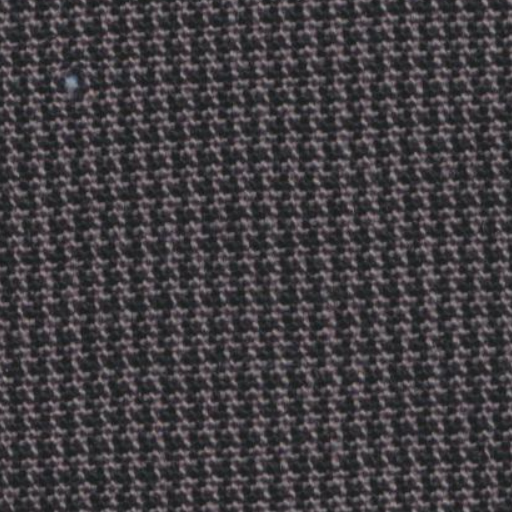PoDong: (40, 46, 108, 110)
